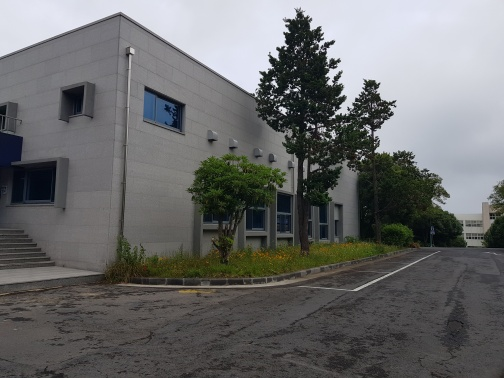College of Social Sciences: (4, 28, 365, 271)
